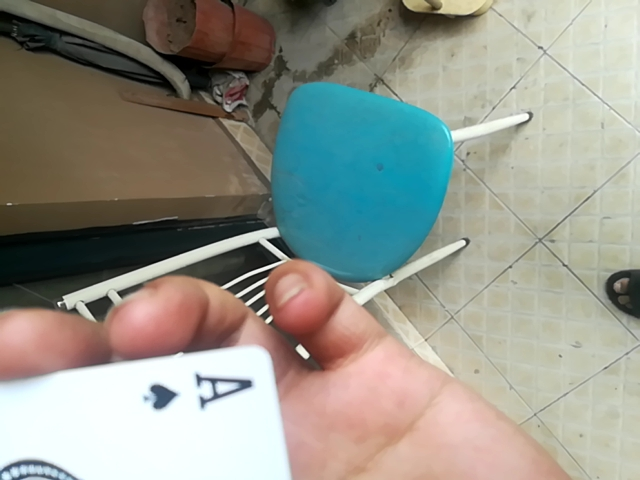ht a: (1, 345, 296, 480)
